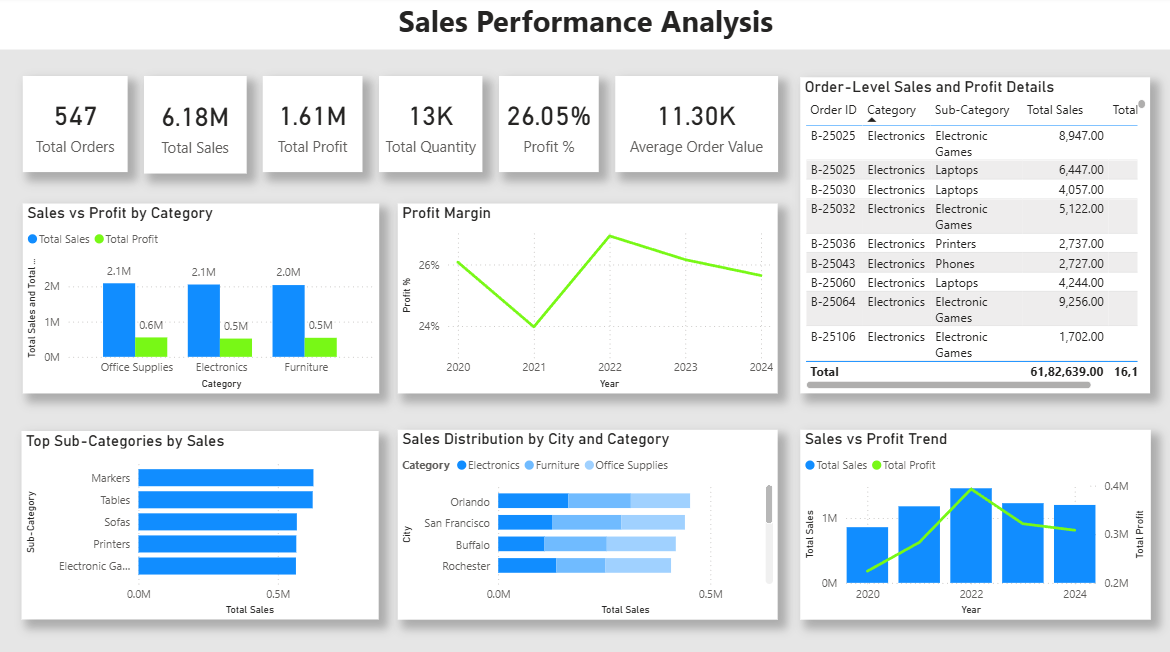

The dashboard page shown, as its layout file describes it:
{"tool":"powerbi","page":{"name":"Page 1","canvas":[1280,720],"ordinal":0},"visuals":[{"type":"textbox","box":[0,0,1280.3,58.6],"z":0},{"type":"card","fields":{"Values":["Sales Dataset.Total Orders"]},"box":[25.9,87.3,114.5,105],"z":1000},{"type":"card","fields":{"Values":["Sales Dataset.Total Sales"]},"box":[158.2,87.3,111.8,106.3],"z":2000},{"type":"card","fields":{"Values":["Sales Dataset.Total Profit"]},"box":[287.7,87.3,109.1,105],"z":3000},{"type":"card","fields":{"Values":["Sales Dataset.Total Quantity"]},"box":[414.5,87.3,113.2,105],"z":4000},{"type":"card","fields":{"Values":["Sales Dataset.Profit %"]},"box":[545.4,87.3,109.1,105],"z":5000},{"type":"card","fields":{"Values":["Sales Dataset.Average Order Value"]},"box":[672.2,87.3,177.2,105],"z":6000},{"type":"clusteredColumnChart","title":"Sales vs Profit by Category","fields":{"Category":["Sales Dataset.Category"],"Y":["Sales Dataset.Total Sales","Sales Dataset.Total Profit"]},"box":[25.9,226.3,388.6,207.2],"z":7000},{"type":"lineChart","title":"Profit Margin","fields":{"Category":["Sales Dataset.Year-Month.Variation.Date Hierarchy.Year","Sales Dataset.Year-Month.Variation.Date Hierarchy.Quarter","Sales Dataset.Year-Month.Variation.Date Hierarchy.Month","Sales Dataset.Year-Month.Variation.Date Hierarchy.Day"],"Y":["Sales Dataset.Profit %"]},"box":[434.9,226.3,414.5,207.2],"z":8000},{"type":"barChart","title":"Top Sub-Categories by Sales","fields":{"Category":["Sales Dataset.Sub-Category"],"Y":["Sales Dataset.Total Sales"]},"box":[24.5,474.5,389.9,205.9],"z":9000},{"type":"barChart","title":"Sales Distribution by City and Category","fields":{"Series":["Sales Dataset.Category"],"Category":["Sales Dataset.City"],"Y":["Sales Dataset.Total Sales"]},"box":[434.9,473.1,414.5,207.2],"z":10000},{"type":"tableEx","title":"Order-Level Sales and Profit Details","fields":{"Values":["Sales Dataset.Order ID","Sales Dataset.Category","Sales Dataset.Sub-Category","Sales Dataset.Total Sales","Sales Dataset.Total Profit"]},"box":[874,88.6,381.8,345],"z":11000},{"type":"lineStackedColumnComboChart","title":"Sales vs Profit Trend","fields":{"Category":["Sales Dataset.Year-Month.Variation.Date Hierarchy.Year","Sales Dataset.Year-Month.Variation.Date Hierarchy.Quarter","Sales Dataset.Year-Month.Variation.Date Hierarchy.Month","Sales Dataset.Year-Month.Variation.Date Hierarchy.Day"],"Y":["Sales Dataset.Total Sales"],"Y2":["Sales Dataset.Total Profit"]},"box":[874,473,382,207],"z":12000}]}

Visuals, with their boxes in screenshot pixels (x1, y1, x2, y2), scaled from the page's 1280x720 canvas onto the 1170x652 screenshot:
textbox: [x1=0, y1=0, x2=1169, y2=53]
card - Sales Dataset.Total Orders: [x1=24, y1=79, x2=128, y2=174]
card - Sales Dataset.Total Sales: [x1=145, y1=79, x2=247, y2=175]
card - Sales Dataset.Total Profit: [x1=263, y1=79, x2=363, y2=174]
card - Sales Dataset.Total Quantity: [x1=379, y1=79, x2=482, y2=174]
card - Sales Dataset.Profit %: [x1=499, y1=79, x2=598, y2=174]
card - Sales Dataset.Average Order Value: [x1=614, y1=79, x2=776, y2=174]
"Sales vs Profit by Category" clusteredColumnChart: [x1=24, y1=205, x2=379, y2=393]
"Profit Margin" lineChart: [x1=398, y1=205, x2=776, y2=393]
"Top Sub-Categories by Sales" barChart: [x1=22, y1=430, x2=379, y2=616]
"Sales Distribution by City and Category" barChart: [x1=398, y1=428, x2=776, y2=616]
"Order-Level Sales and Profit Details" tableEx: [x1=799, y1=80, x2=1148, y2=393]
"Sales vs Profit Trend" lineStackedColumnComboChart: [x1=799, y1=428, x2=1148, y2=616]
